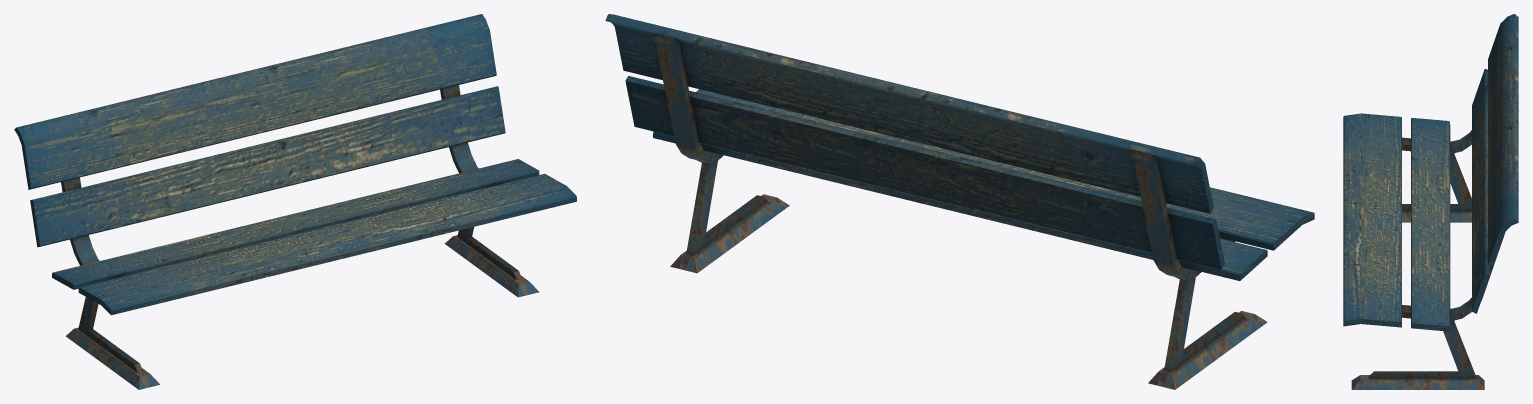
Rendered from bench_indoor001a.fbx.
The picture shows the model from 3 angles, left to right: view 1: azimuth 30°, elevation 25°; view 2: azimuth 150°, elevation 25°; view 3: azimuth 270°, elevation 25°; orthographic projection. The views are drawn at different scales.
Visible parts, largest first — view 1: studiomesh_3; view 2: studiomesh_3; view 3: studiomesh_3.
Boxes of the visible parts, x1=… form: studiomesh_3: x1=14, y1=14, x2=576, y2=389; studiomesh_3: x1=605, y1=14, x2=1314, y2=389; studiomesh_3: x1=1343, y1=14, x2=1518, y2=389.
Size of the model in its own units: 86 by 36.06 by 31.02.
